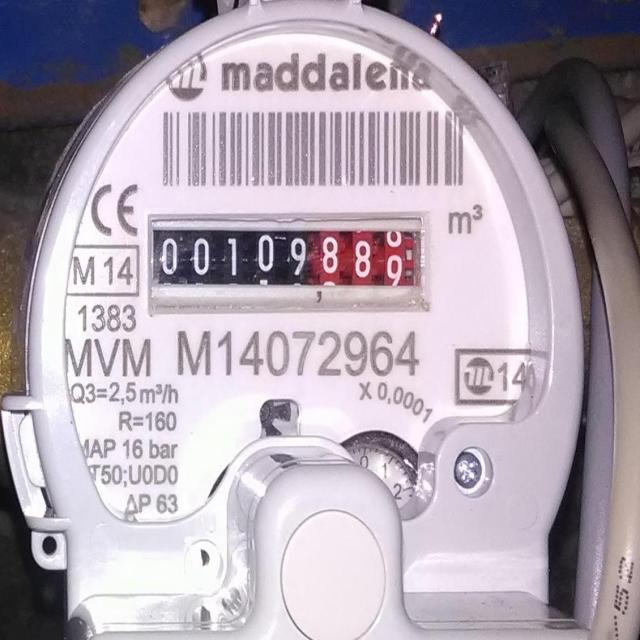gaz_meter: (24, 0, 583, 557)
indication: (150, 216, 425, 290)
